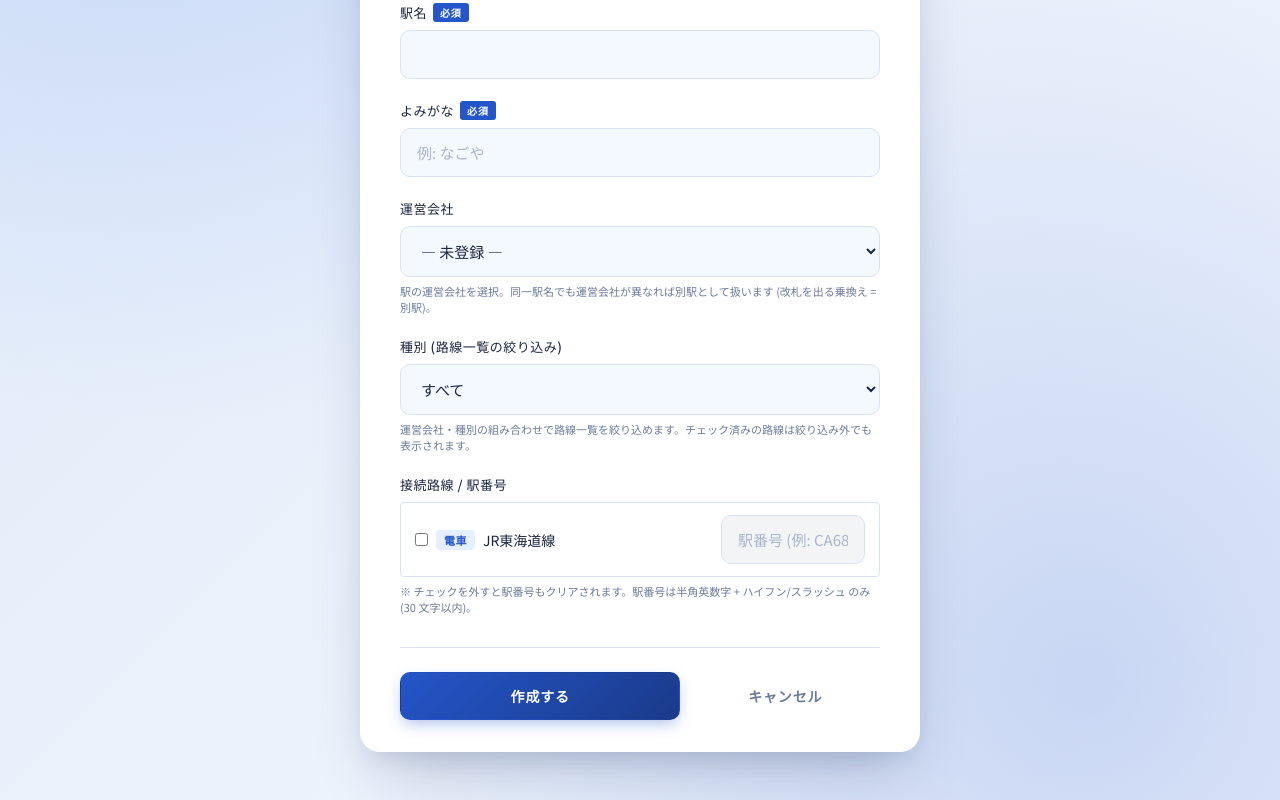
Test: AdminStationNew (US-026 新規作成) › US-033: チェック OFF にすると同行の駅番号 input が disabled + 値クリア
The width and height of the screenshot is (1280, 800).
(page scrolled)
Check: the field labelled "駅名 必須" is shown, box [400,30,880,79]
Check: the field named "JR東海道線 の駅番号" is disabled, box [721,515,865,564]
// チェック ON で input が有効化
Click the checkbox named "JR東海道線 に接続". click: (422, 540)
box: [415,533,428,546]
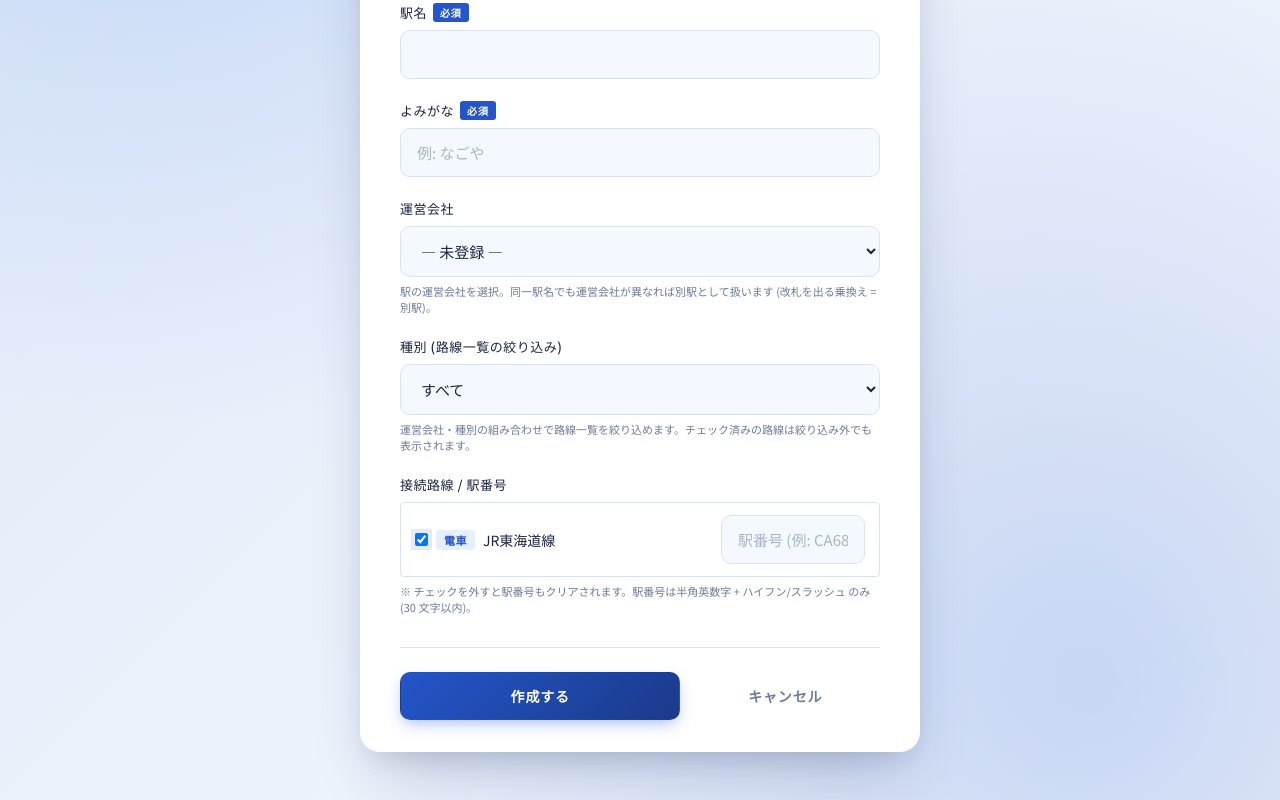
Type "CA68" into the field named "JR東海道線 の駅番号". click: (793, 540)
box: [721,515,865,564]
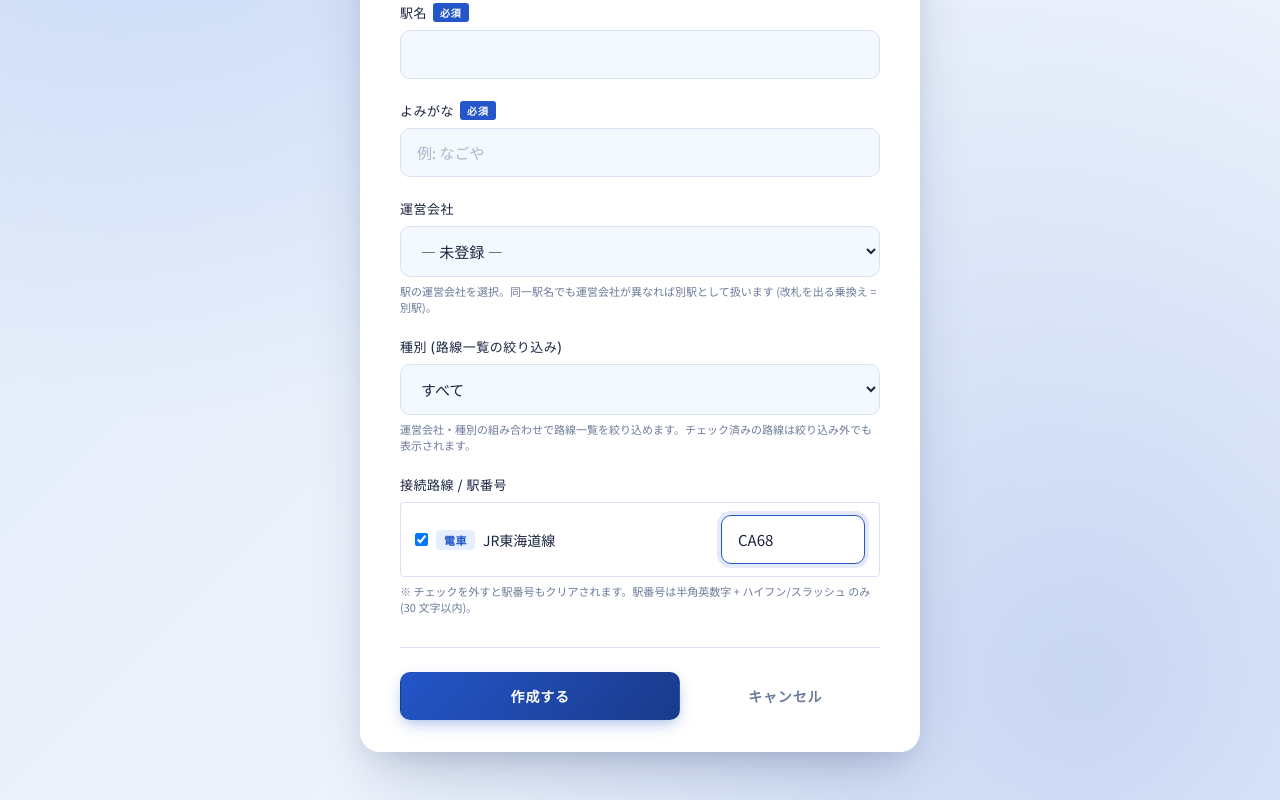
// チェック OFF で input が disabled + 値が消える
Click the checkbox named "JR東海道線 に接続". click: (422, 540)
box: [415,533,428,546]
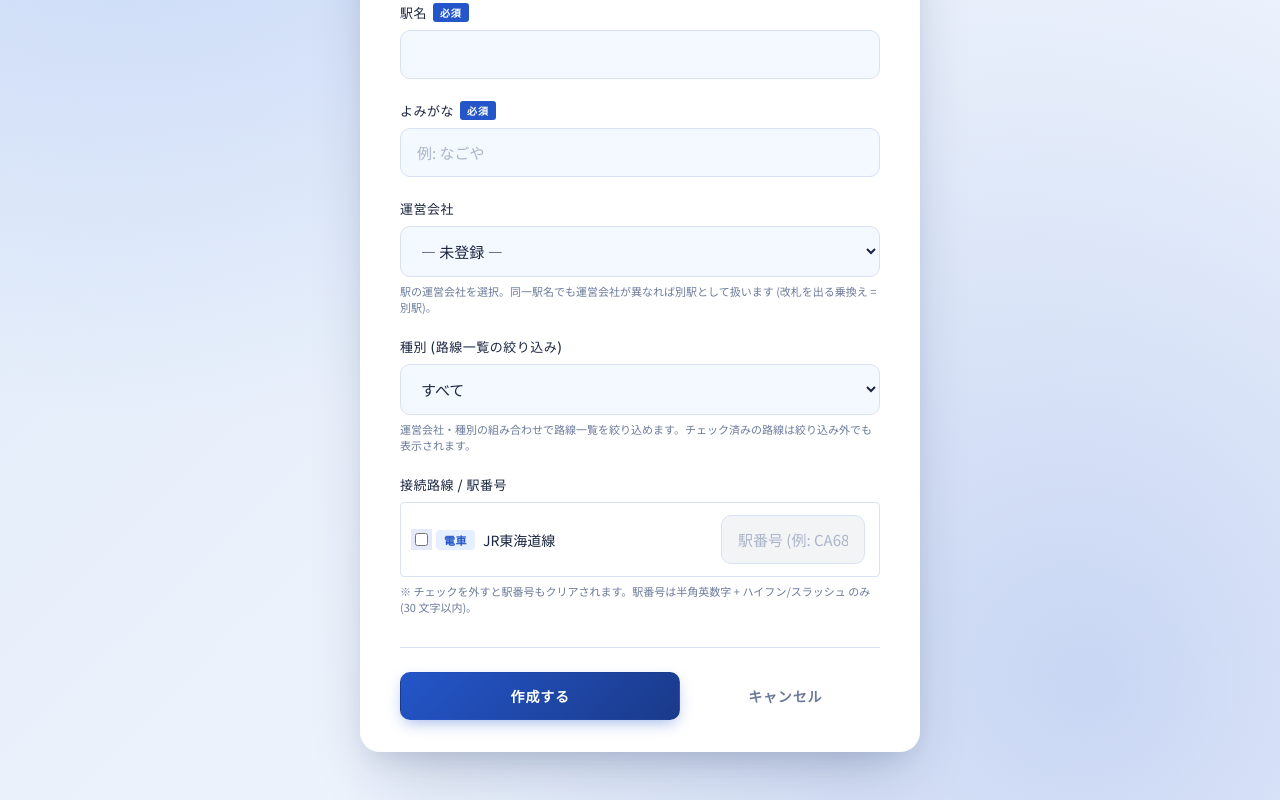
Check: the field named "JR東海道線 の駅番号" is disabled, box [721,515,865,564]
Check: the field named "JR東海道線 の駅番号" is empty, box [721,515,865,564]
